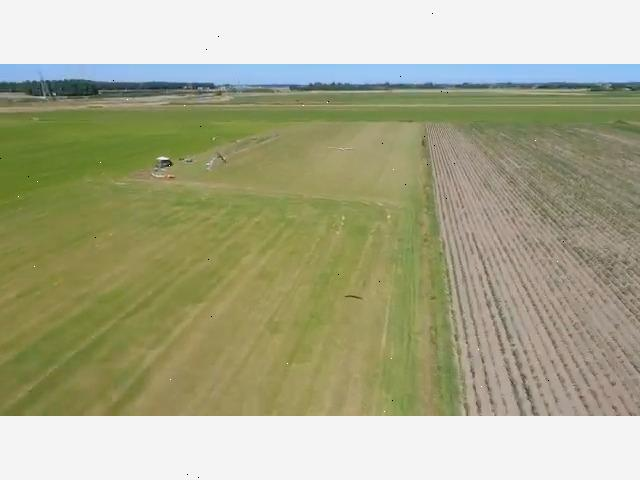Anti-Drone: (327, 140, 365, 157)
